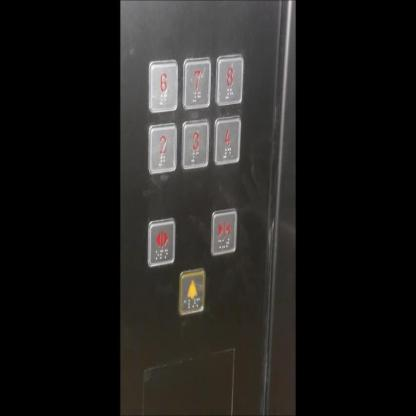2: (145, 118, 178, 177)
3: (179, 114, 212, 174)
4: (210, 110, 244, 169)
6: (146, 56, 179, 115)
7: (180, 53, 214, 112)
8: (212, 50, 246, 108)
alarm: (176, 263, 208, 319)
close: (207, 203, 239, 259)
open: (145, 213, 176, 270)
